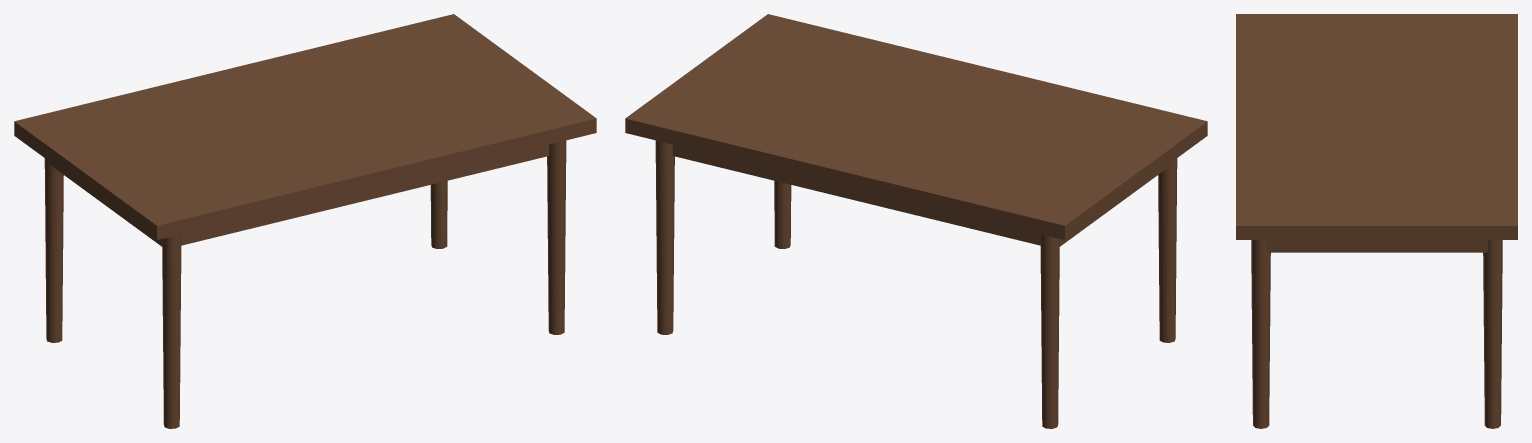
The model's file is dining-table-lod1.glb.
3 renders of one model, left to right at view 1: azimuth 30°, elevation 25°; view 2: azimuth 150°, elevation 25°; view 3: azimuth 270°, elevation 25°, orthographic.
Visible parts, largest first — view 1: top, leg (×4), apron; view 2: top, leg (×4), apron; view 3: top, leg (×2), apron.
Part boxes in pixels (x1=…): top: x1=14, y1=14, x2=596, y2=239; leg (×4): x1=44, y1=140, x2=566, y2=428; apron: x1=50, y1=144, x2=549, y2=246; top: x1=625, y1=14, x2=1207, y2=239; leg (×4): x1=655, y1=140, x2=1177, y2=428; apron: x1=672, y1=144, x2=1171, y2=246; top: x1=1236, y1=14, x2=1517, y2=239; leg (×2): x1=1251, y1=240, x2=1502, y2=428; apron: x1=1266, y1=240, x2=1487, y2=252.
Size of the model in its own units: 1.6 by 0.75 by 0.9.
